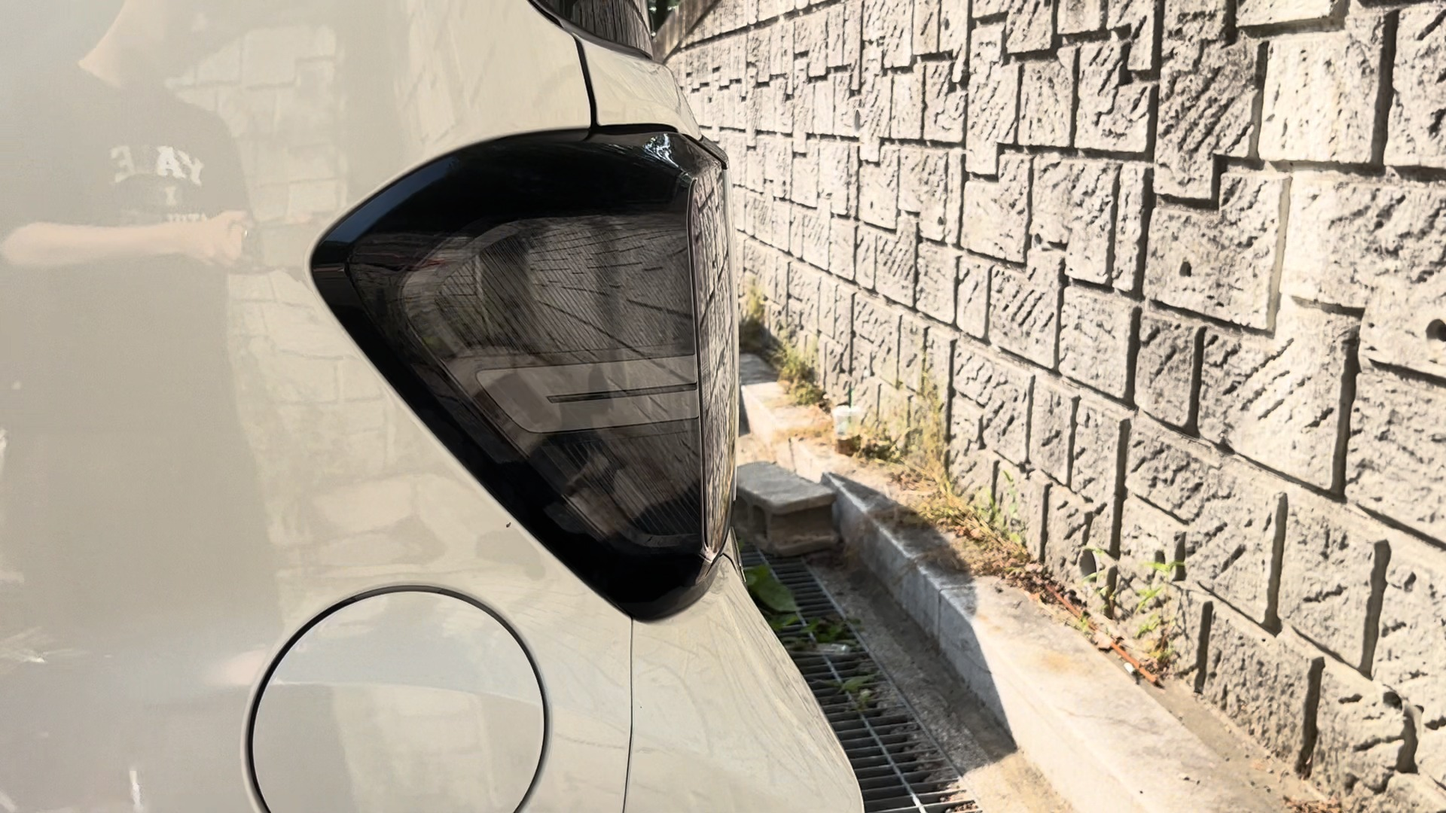tail_light: (315, 124, 738, 620)
